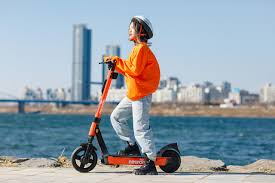kick_wheel: (72, 144, 97, 171), (159, 146, 181, 173)
